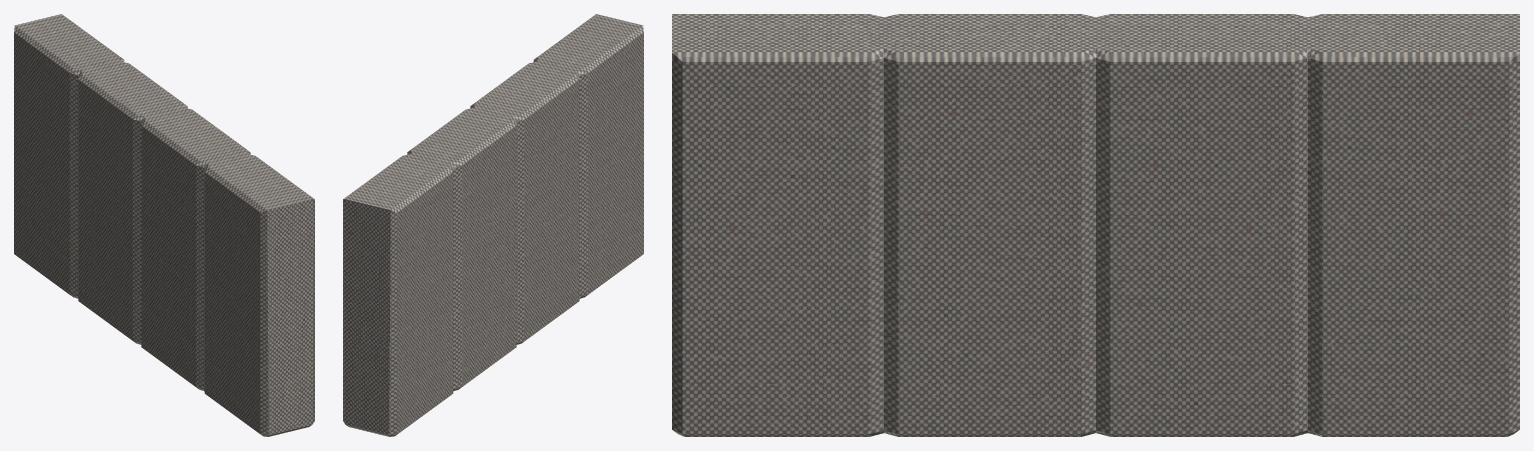
Rendered from Wall.fbx.
3 renders of one model, left to right at view 1: azimuth 30°, elevation 25°; view 2: azimuth 150°, elevation 25°; view 3: azimuth 270°, elevation 25°, orthographic. The views are drawn at different scales.
Visible parts, largest first — view 1: Wall1; view 2: Wall1; view 3: Wall1.
Part boxes in pixels (x1=…): Wall1: x1=14, y1=14, x2=314, y2=436; Wall1: x1=343, y1=14, x2=643, y2=436; Wall1: x1=672, y1=14, x2=1519, y2=436.
Size of the model in its own units: 100 by 400 by 800.
1 material, 1 textured.
